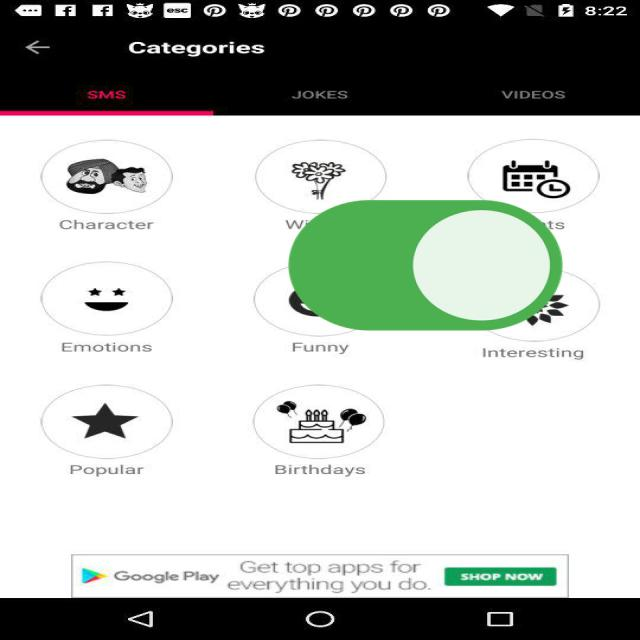social proof: (276, 150, 575, 391)
